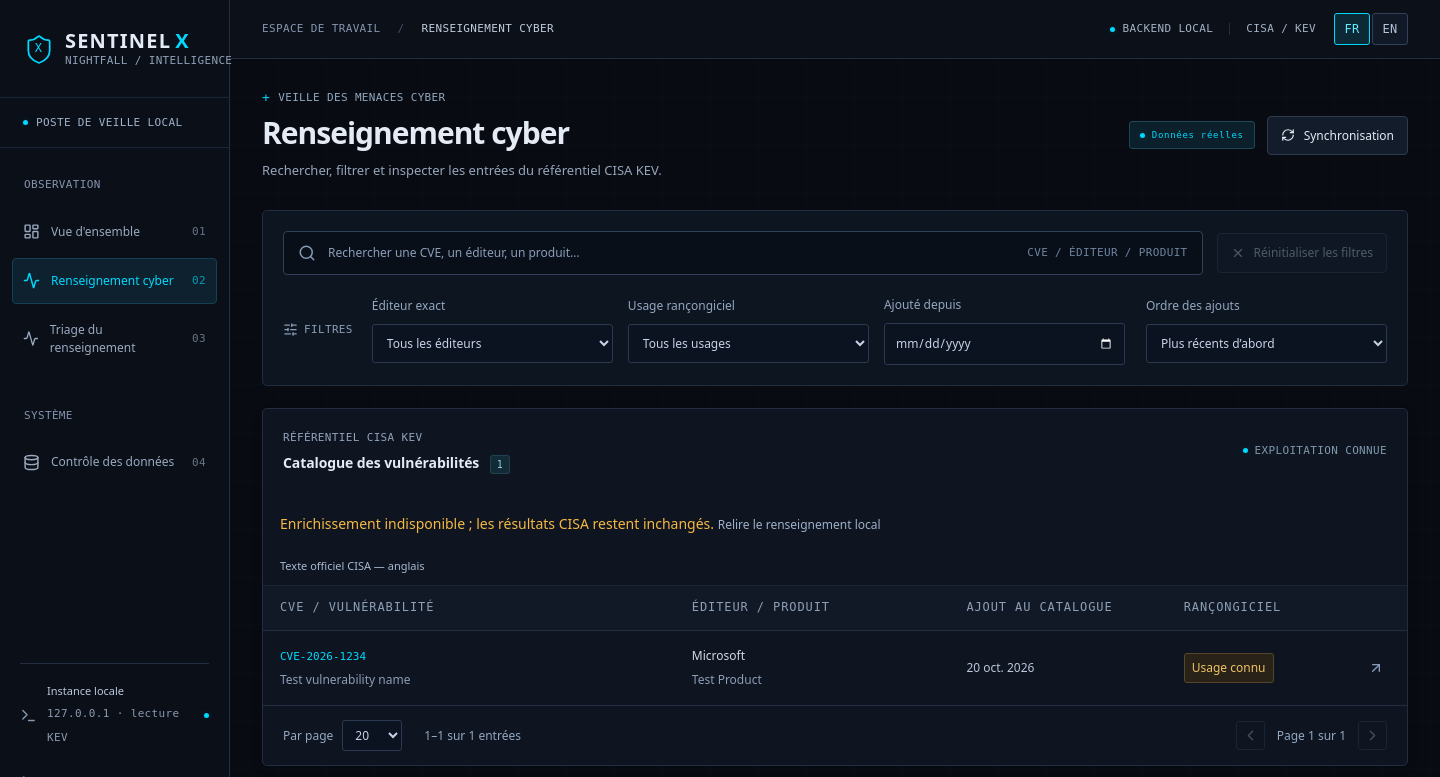
Test: keeps catalogue and CISA detail usable when the new endpoint is offline
This screenshot has width=1440, height=777.
Expected: the text "Enrichissement indisponible ; les résultats CISA restent inchangés." is shown, 280,514 -> 714,533
Click the button with aria-label "Ouvrir CVE-2026-1234": (323, 656) 280,647 -> 366,666
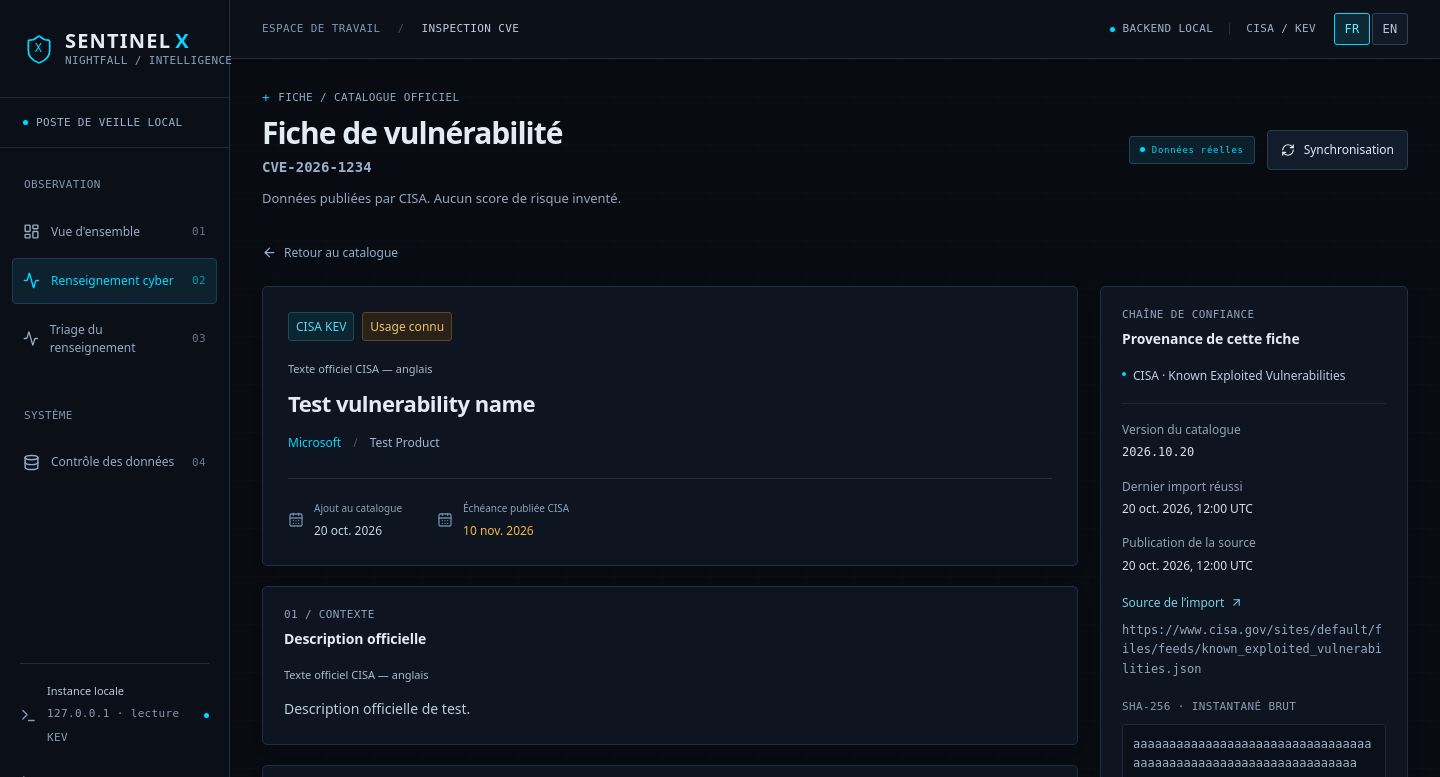
Expected: the text "Description officielle de test." is shown, 284,699 -> 470,718
